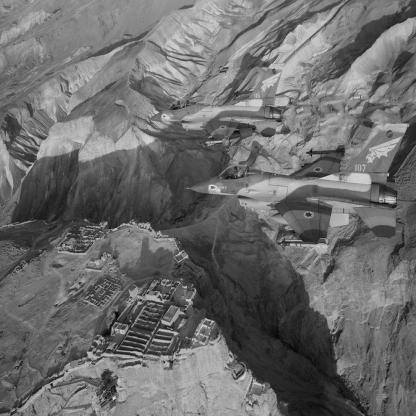F16: (185, 122, 411, 255), (145, 63, 289, 150)
